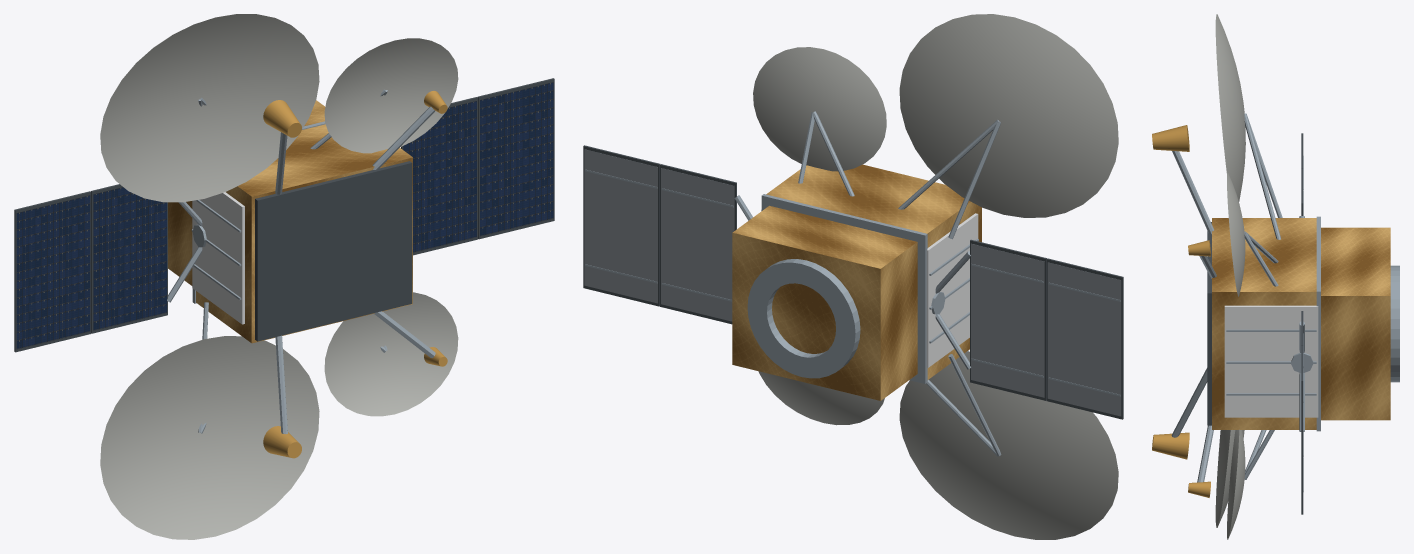
File: as4000-acts.glb
3 views of the same model, side by side, from view 1: azimuth 30°, elevation 25°; view 2: azimuth 150°, elevation 25°; view 3: azimuth 270°, elevation 25° (orthographic). The views are drawn at different scales.
Parts seen in each view (by area): view 1: Communications reflector (×4), Solar cell panel (×4), Earth-facing deck, Payload module, Radiator face, Solar panel frame (×3), Service module, Feed horn (×2), Offset feed boom (×2); view 2: Communications reflector (×4), Rear array substrate (×4), Service module, Payload module, Launch adapter ring, Radiator face, Solar panel frame (×4), Module interface, Shell hinge strut (×2); view 3: Service module, Payload module, Radiator face, Communications reflector (×4), Feed horn (×4), Offset feed boom (×3), Shell hinge strut (×3), Launch adapter ring, Module interface, Earth-facing deck, Solar panel frame, Array drive.
Part boxes in pixels (x1=…): Communications reflector (×4): x1=100, y1=14, x2=458, y2=539; Solar cell panel (×4): x1=16, y1=82, x2=553, y2=349; Earth-facing deck: x1=255, y1=161, x2=412, y2=341; Payload module: x1=196, y1=124, x2=412, y2=343; Radiator face: x1=192, y1=192, x2=244, y2=324; Solar panel frame (×3): x1=14, y1=78, x2=554, y2=352; Service module: x1=168, y1=100, x2=325, y2=285; Feed horn (×2): x1=263, y1=100, x2=301, y2=458; Offset feed boom (×2): x1=275, y1=106, x2=435, y2=434; Communications reflector (×4): x1=753, y1=14, x2=1118, y2=539; Rear array substrate (×4): x1=584, y1=149, x2=1121, y2=416; Service module: x1=732, y1=205, x2=917, y2=400; Payload module: x1=766, y1=164, x2=981, y2=379; Launch adapter ring: x1=747, y1=259, x2=860, y2=378; Radiator face: x1=926, y1=213, x2=978, y2=367; Solar panel frame (×4): x1=583, y1=145, x2=1123, y2=419; Module interface: x1=761, y1=194, x2=927, y2=383; Shell hinge strut (×2): x1=898, y1=119, x2=1000, y2=239; Service module: x1=1321, y1=227, x2=1390, y2=420; Payload module: x1=1212, y1=218, x2=1316, y2=429; Radiator face: x1=1224, y1=305, x2=1318, y2=417; Communications reflector (×4): x1=1215, y1=14, x2=1245, y2=539; Feed horn (×4): x1=1152, y1=125, x2=1210, y2=497; Offset feed boom (×3): x1=1171, y1=151, x2=1213, y2=482; Shell hinge strut (×3): x1=1244, y1=113, x2=1282, y2=286; Launch adapter ring: x1=1390, y1=265, x2=1399, y2=382; Module interface: x1=1316, y1=216, x2=1320, y2=431; Earth-facing deck: x1=1207, y1=222, x2=1211, y2=425; Solar panel frame: x1=1301, y1=346, x2=1303, y2=514; Array drive: x1=1291, y1=353, x2=1313, y2=372.
Size of the model in its own units: 14.38 by 13.23 by 6.09.
Materials: 8 (2 with a texture image).
